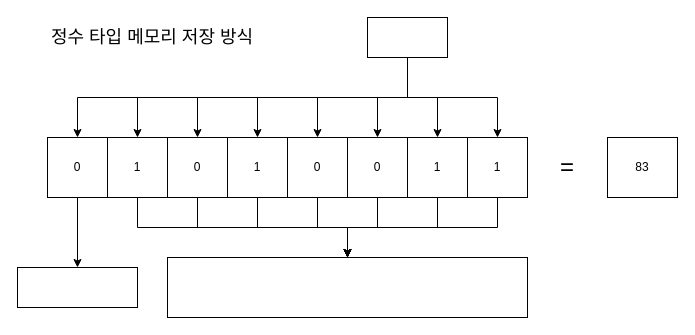
Some shapes in this 695 by 335 pixel diagram are drawn without their labels. Each missing label, with the centre of its shape:
1칸에 1bit: pixel 407 37
2진수로 숫자를 표현: pixel 347 287
제일 앞은 부호자리 (양수는 0 음수는 1): pixel 77 287
